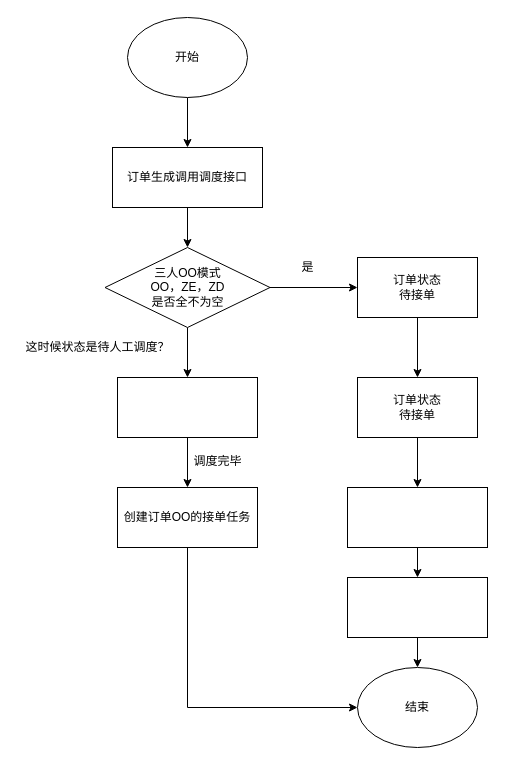
The diagram is 505 pixels wide and 765 high, and some of its shapes have lost their labels. Each missing label, with the centre of its shape:
"人工调度OO，ZE，ZD" goes at point 187,407.
"辅OO为空，创建OO经理分配辅OO任务" goes at point 417,607.
"都不为空，创建订单OO的接单任务" goes at point 417,517.
